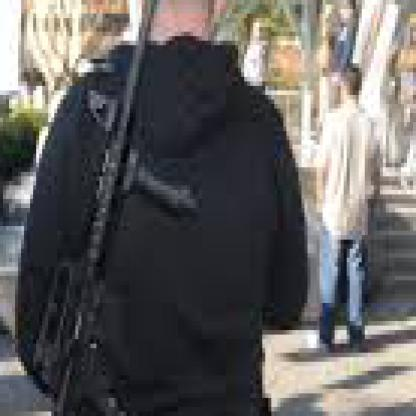gun: (0, 0, 413, 339)
